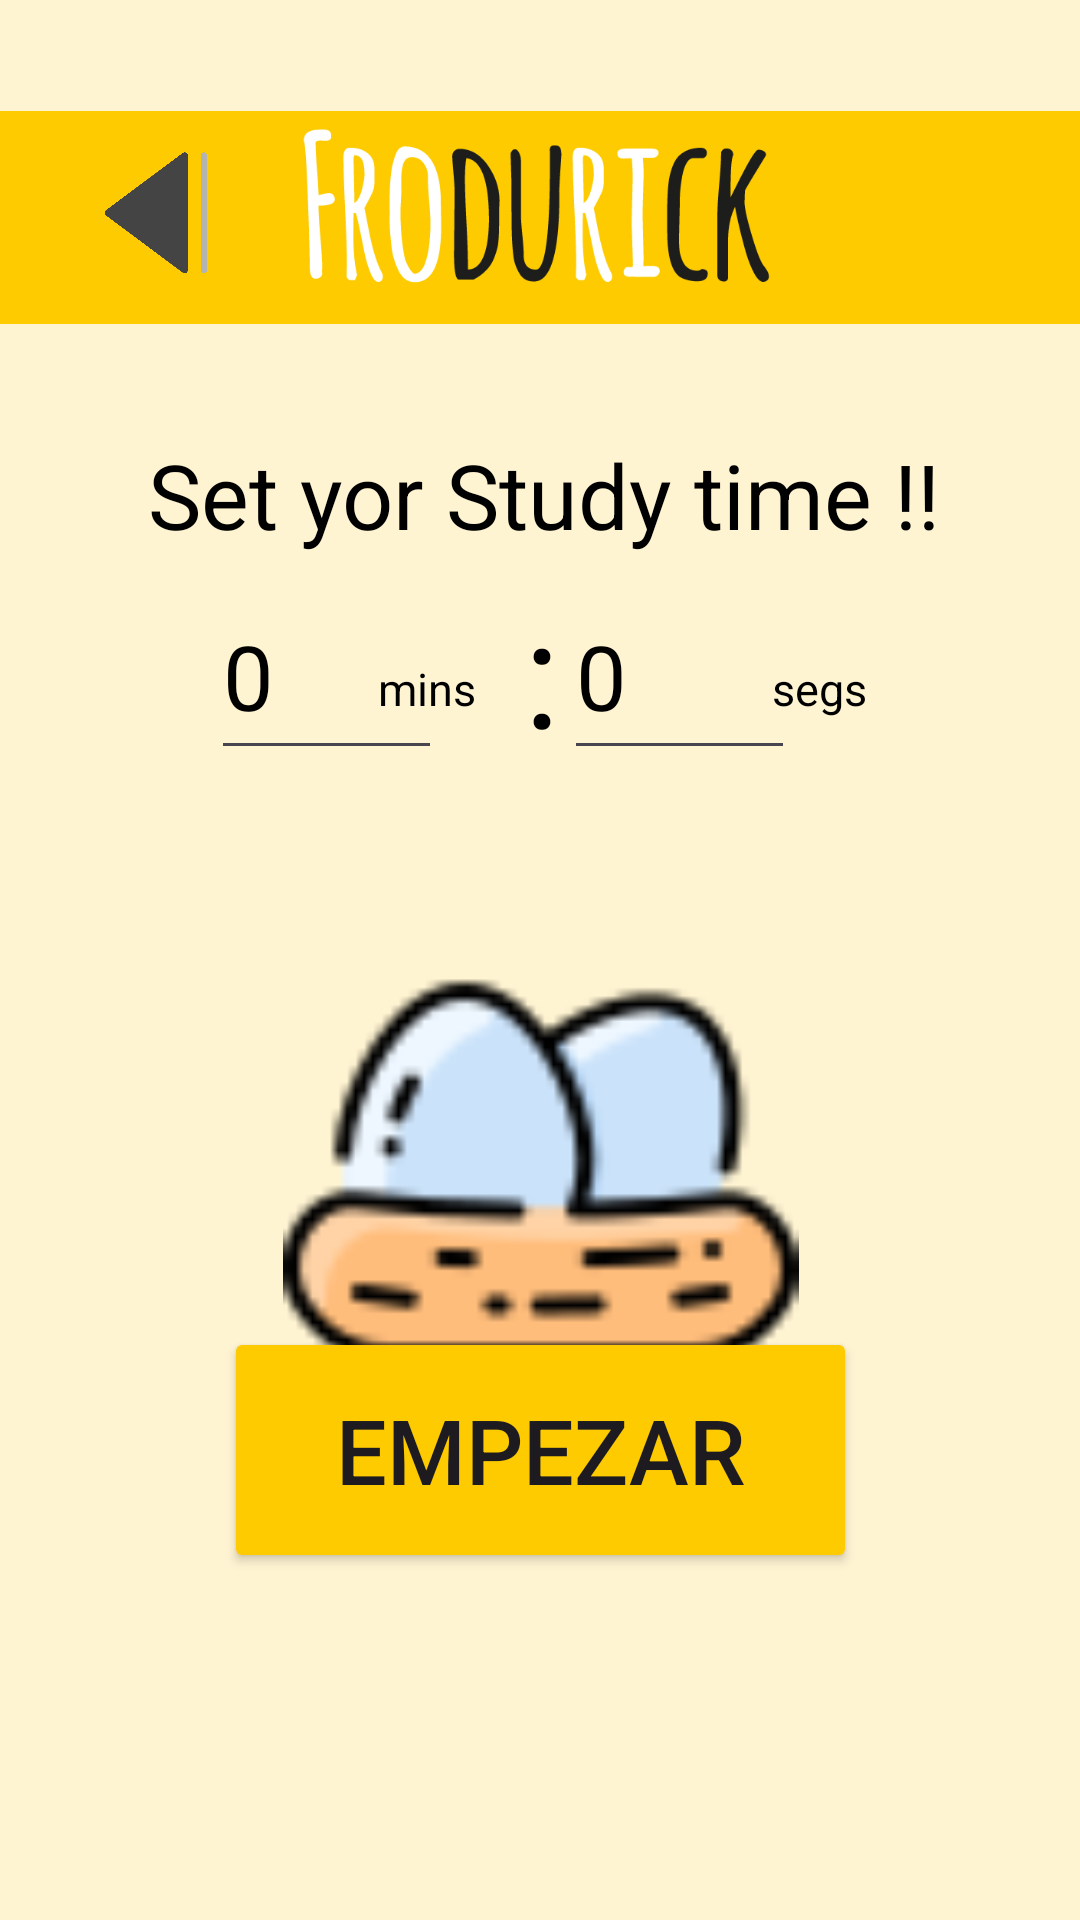

Point at icon controls on the screen. Image size 1080 x 1920, points as (x,y).
backarrow: (156,212)
